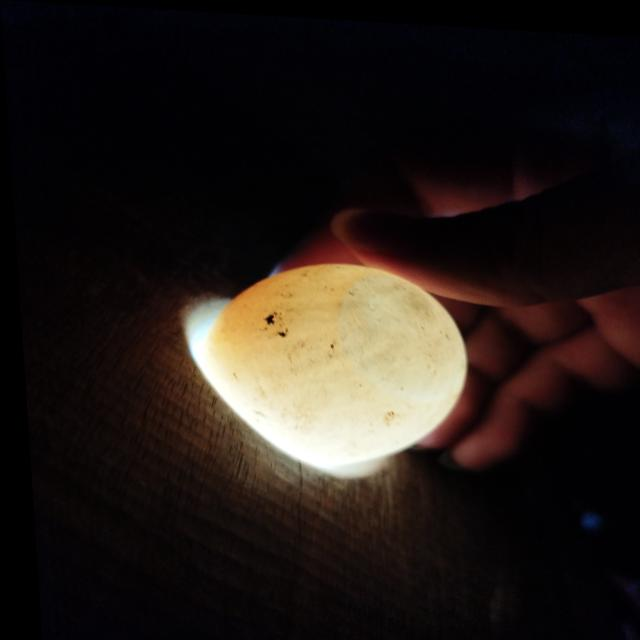Camara de Ar: (335, 274, 462, 393)
